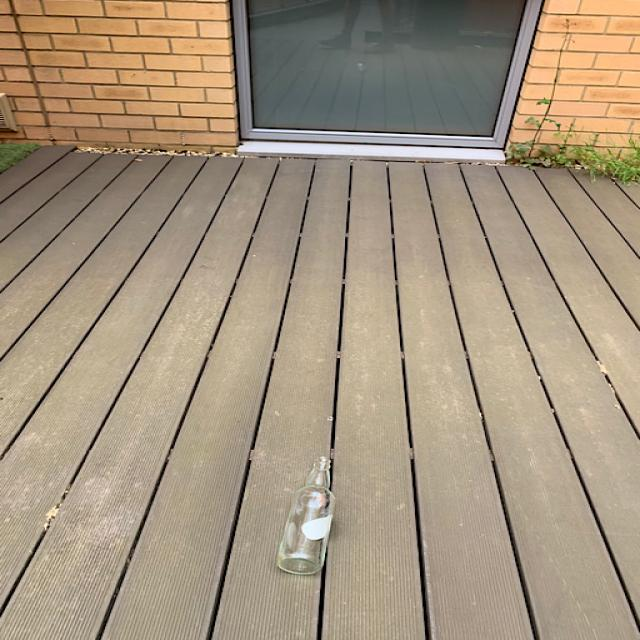litter: (268, 454, 340, 580)
